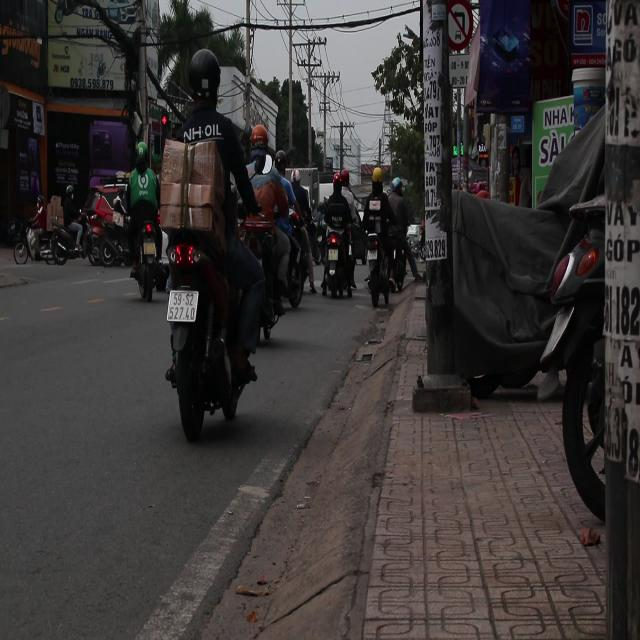motorbike: (165, 227, 239, 440), (244, 209, 306, 323), (11, 206, 78, 266), (50, 199, 92, 263), (365, 224, 392, 308), (324, 230, 348, 302)
